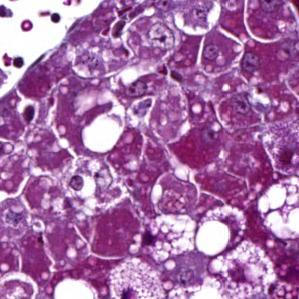ballooning: (137, 210, 201, 265), (257, 173, 299, 244), (105, 255, 171, 299)
